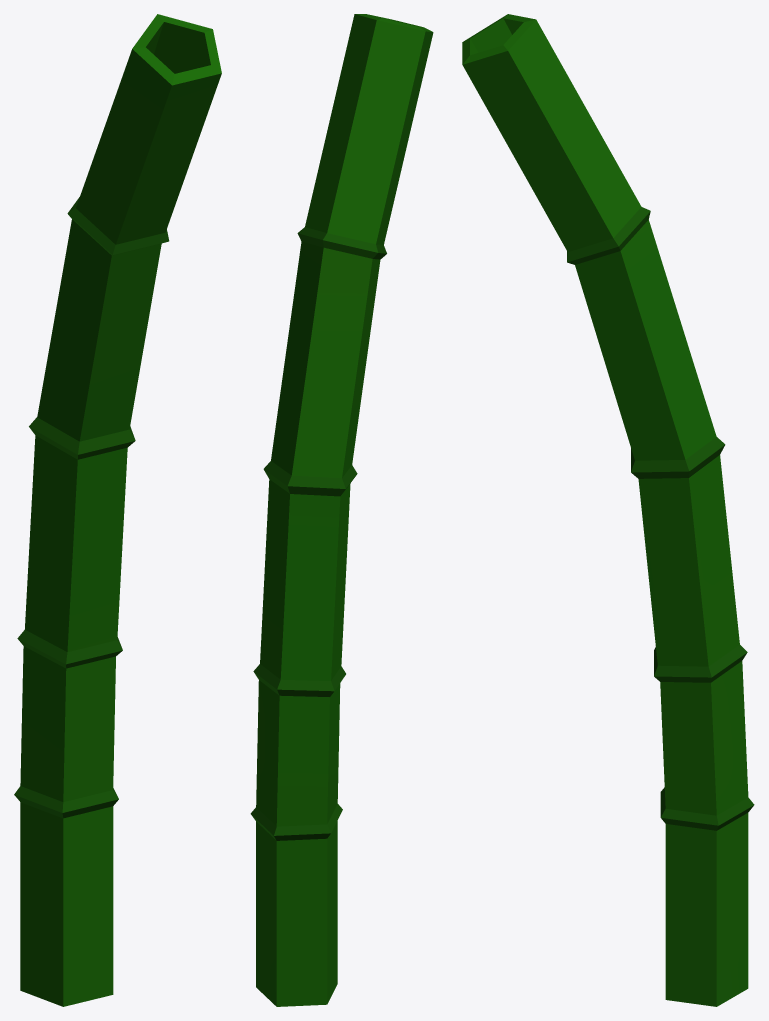
Rendered from ShortBambooCurved.glb.
3 views of the same model, side by side, from view 1: azimuth 30°, elevation 25°; view 2: azimuth 150°, elevation 25°; view 3: azimuth 270°, elevation 25° (orthographic). The views are drawn at different scales.
Parts seen in each view (by area): view 1: Bamboo_2E; view 2: Bamboo_2E; view 3: Bamboo_2E.
Boxes of the visible parts, x1=… form: Bamboo_2E: x1=14, y1=14, x2=221, y2=1006; Bamboo_2E: x1=250, y1=14, x2=433, y2=1006; Bamboo_2E: x1=462, y1=14, x2=754, y2=1006.
Bounding box in the file's own units: 0.0668 × 0.7102 × 0.1935.
1 material, 1 textured.
